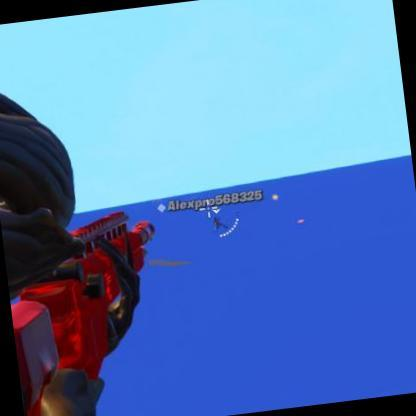person: (214, 212, 223, 228)
